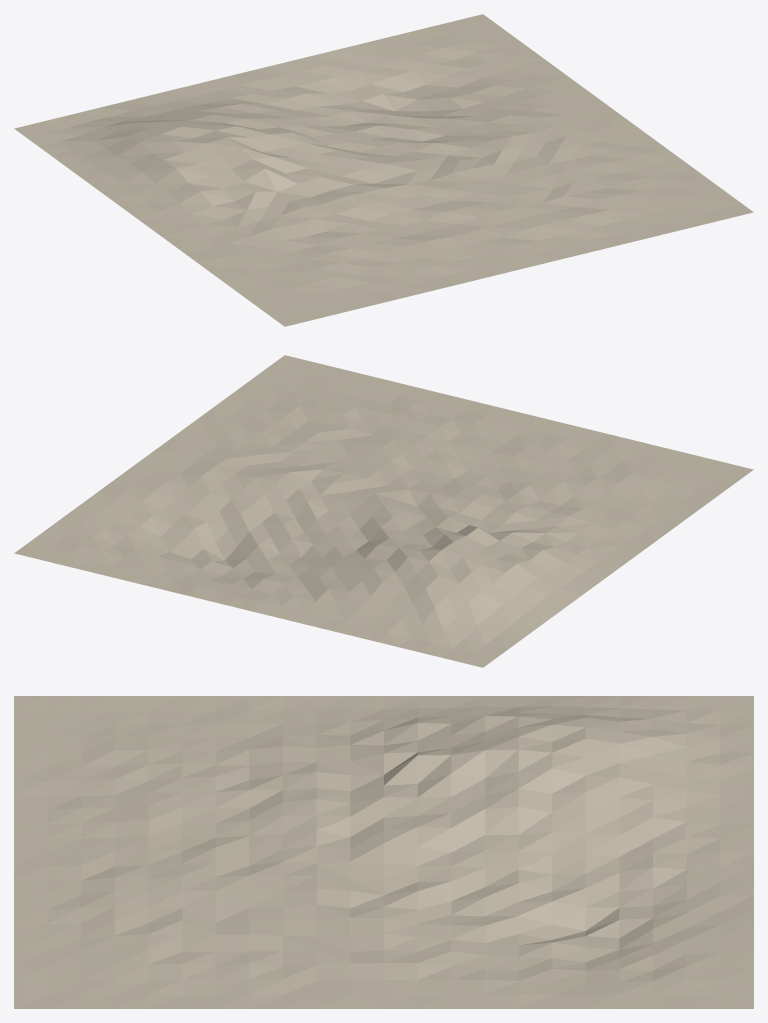
The model's file is Ground_s_08.fbx.
The picture shows the model from 3 angles, top to bottom: view 1: azimuth 30°, elevation 25°; view 2: azimuth 150°, elevation 25°; view 3: azimuth 270°, elevation 25°; orthographic projection. The views are drawn at different scales.
Parts seen in each view (by area): view 1: Ground_s_08; view 2: Ground_s_08; view 3: Ground_s_08.
Part boxes in pixels (<box>): Ground_s_08: <box>14,14,753,326</box>; Ground_s_08: <box>14,355,753,667</box>; Ground_s_08: <box>14,696,753,1008</box>.
Bounding box in the file's own units: 5000 × 399 × 5000.
